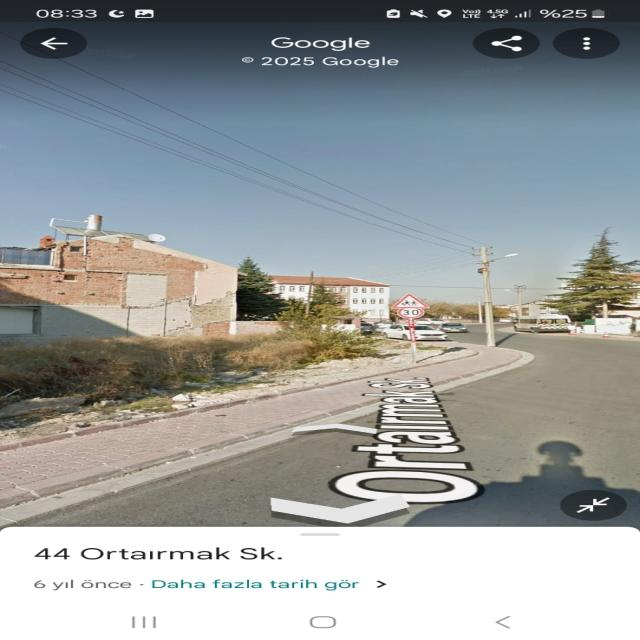okul_gecidi: (391, 293, 430, 309)
